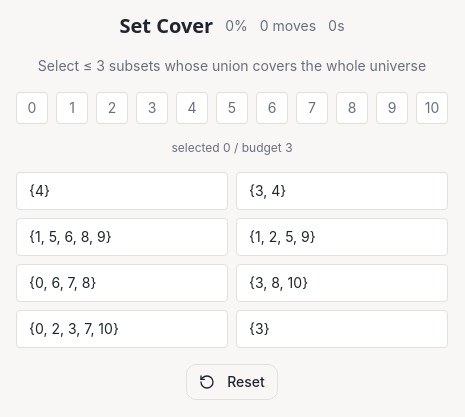
GamePlayer › Reset restores the board and move count
Expected: the text labelled "moves" reads "0 moves", [260, 16, 316, 36]
Click the button named "subset-0" at [122, 191], box [16, 172, 228, 210]
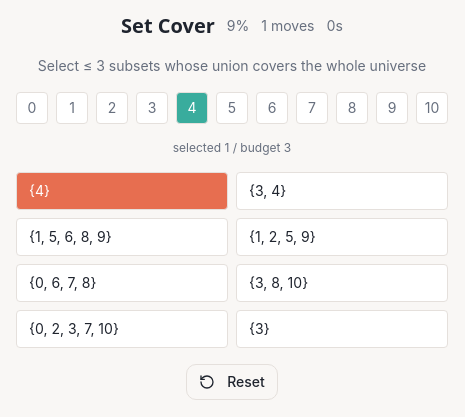
Now the text labelled "moves" reads "1 moves", box [261, 16, 314, 36]
Now the text named "progress" no longer shows "0%", box [227, 16, 249, 36]
Click the button "Reset" at [232, 382], box [186, 364, 278, 400]
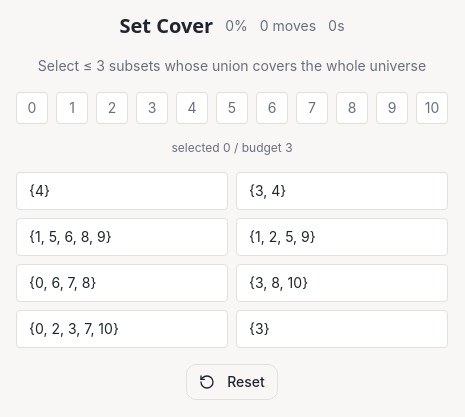
Now the text labelled "moves" reads "0 moves", box [260, 16, 316, 36]
Now the text named "progress" reads "0%", box [225, 16, 248, 36]
